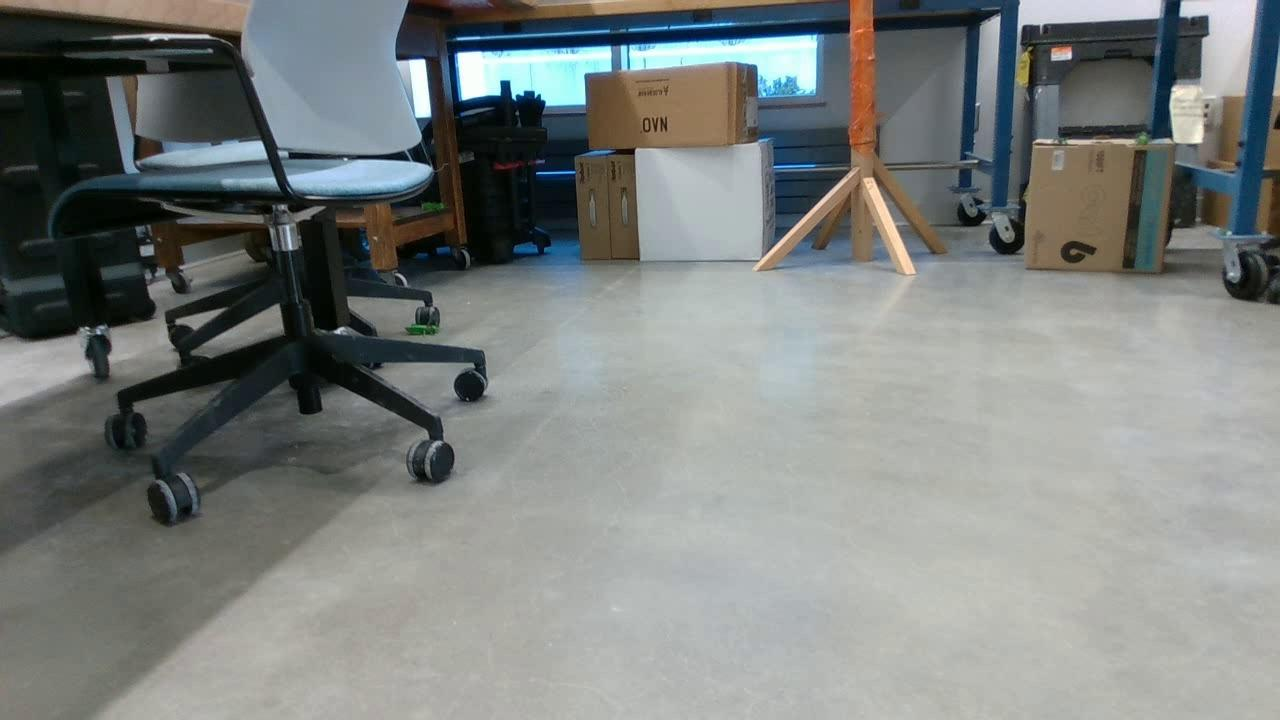grasshopper: (405, 320, 439, 337), (420, 199, 447, 211), (1136, 131, 1150, 146)
